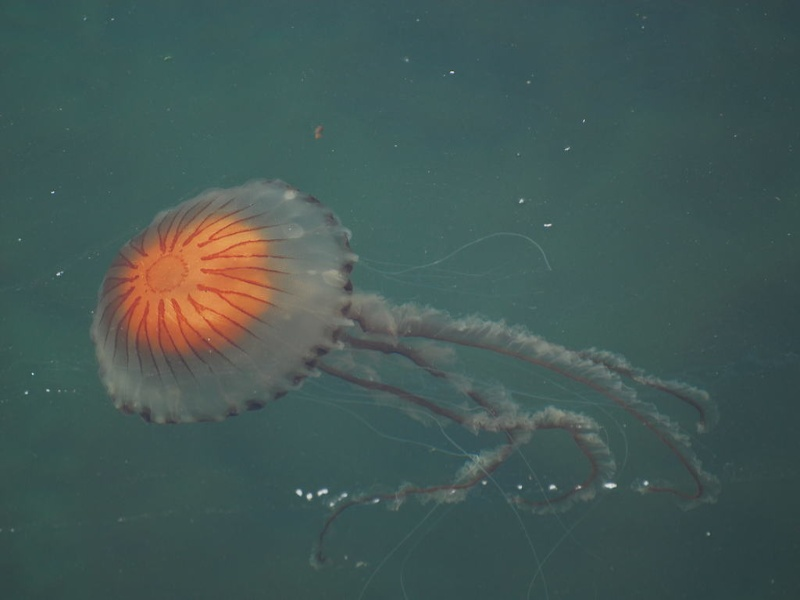Jellyfish: (88, 178, 726, 600)
